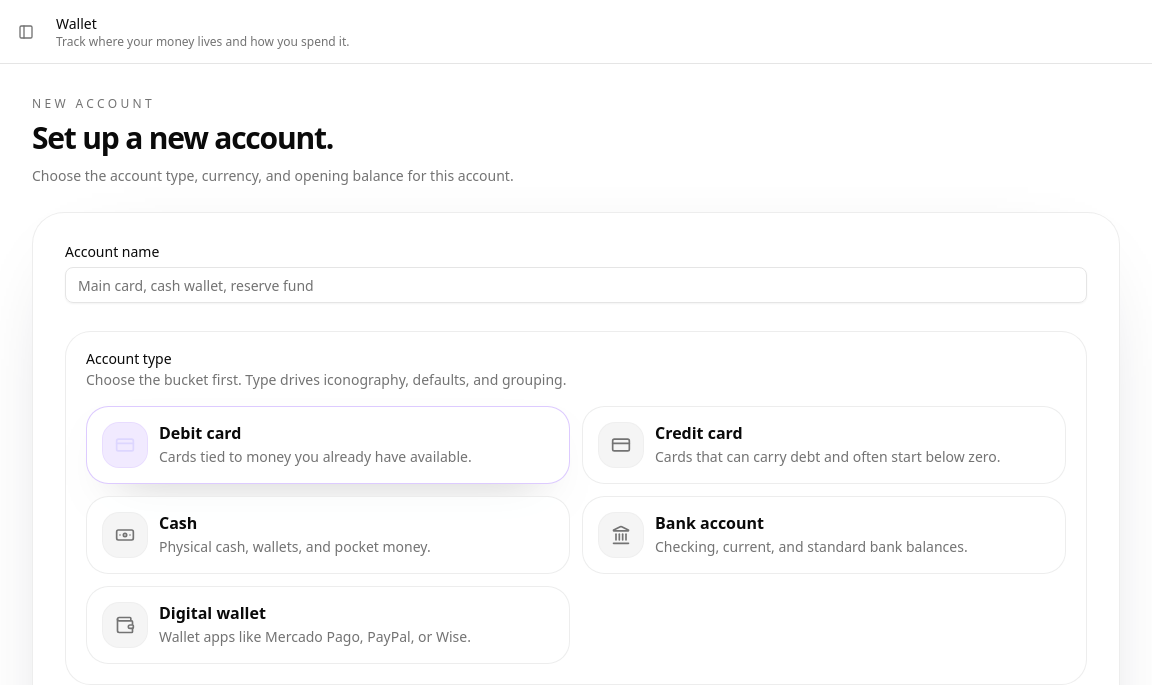
Test: wallet frontend routes › creates an account from the dedicated route and lands on the detail route
The image size is (1152, 685).
Expected: the heading "Set up a new account." is shown, [32, 117, 333, 158]
In the field with placeholder "Main card, cash wallet, reserve fund": (576, 285) [65, 267, 1087, 303], type "Travel Fund"
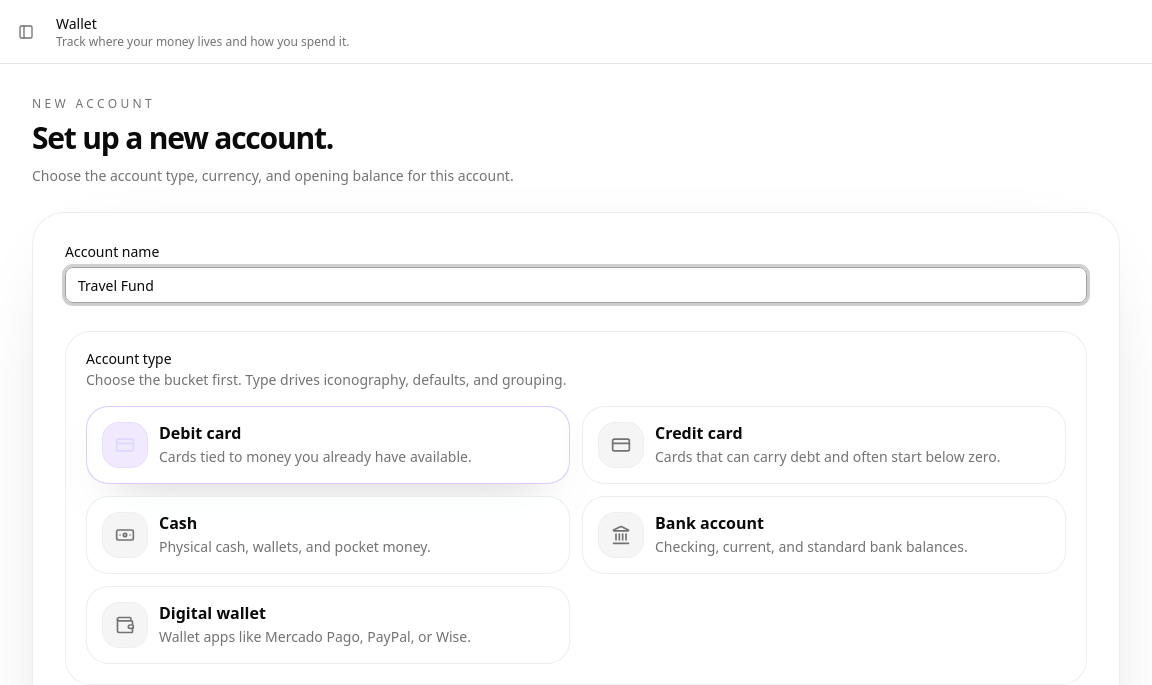
Click the radio button labelled "Bank account Checking, current, and standard bank balances.": (824, 535) [582, 496, 1066, 574]
(page scrolled)
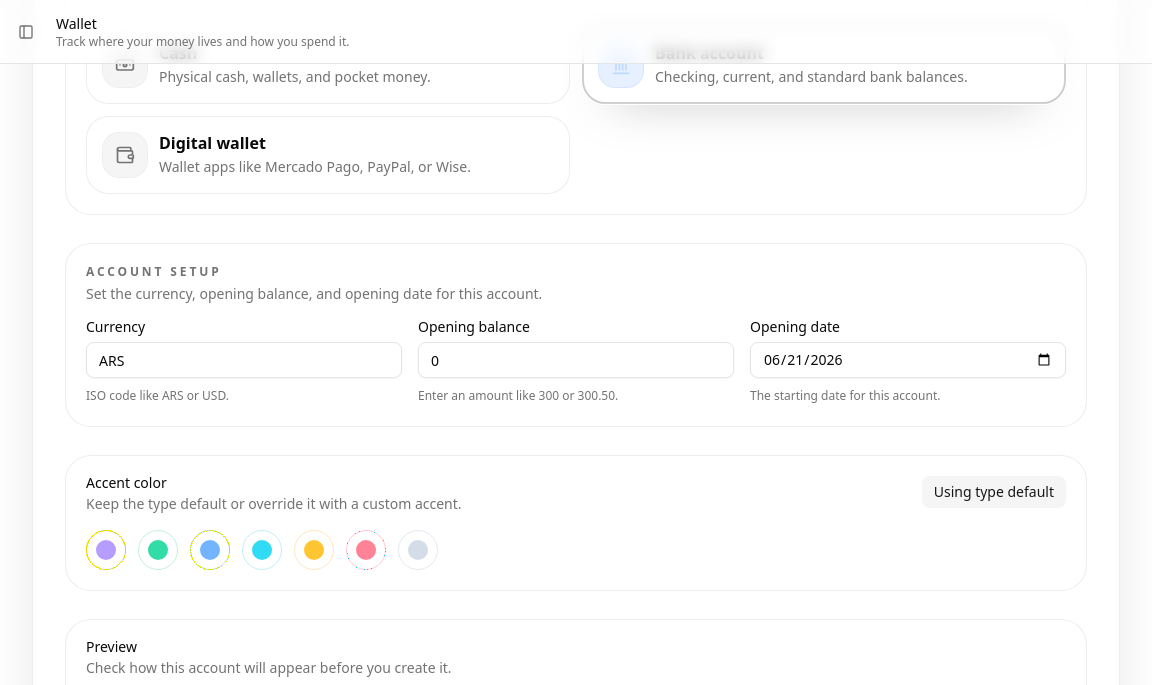
Replace the text in the field labelled "Currency" with "USD": (244, 360) [86, 342, 402, 378]
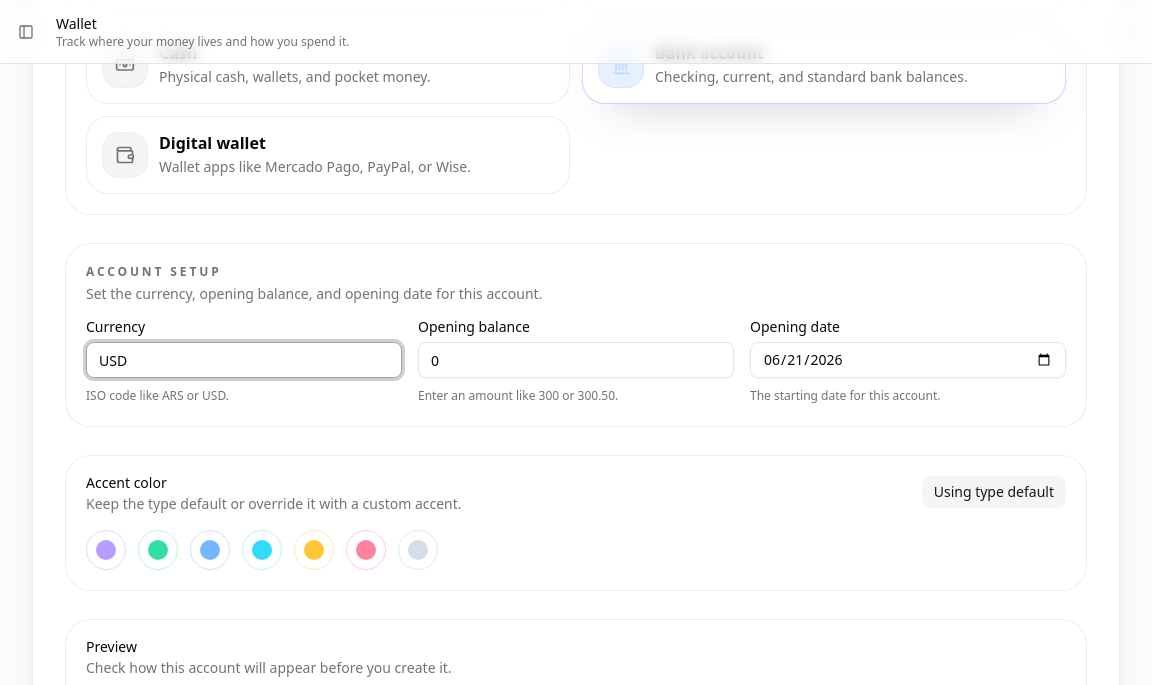
Replace the text in the field labelled "Opening balance" with "150": (576, 360) [418, 342, 734, 378]
(page scrolled)
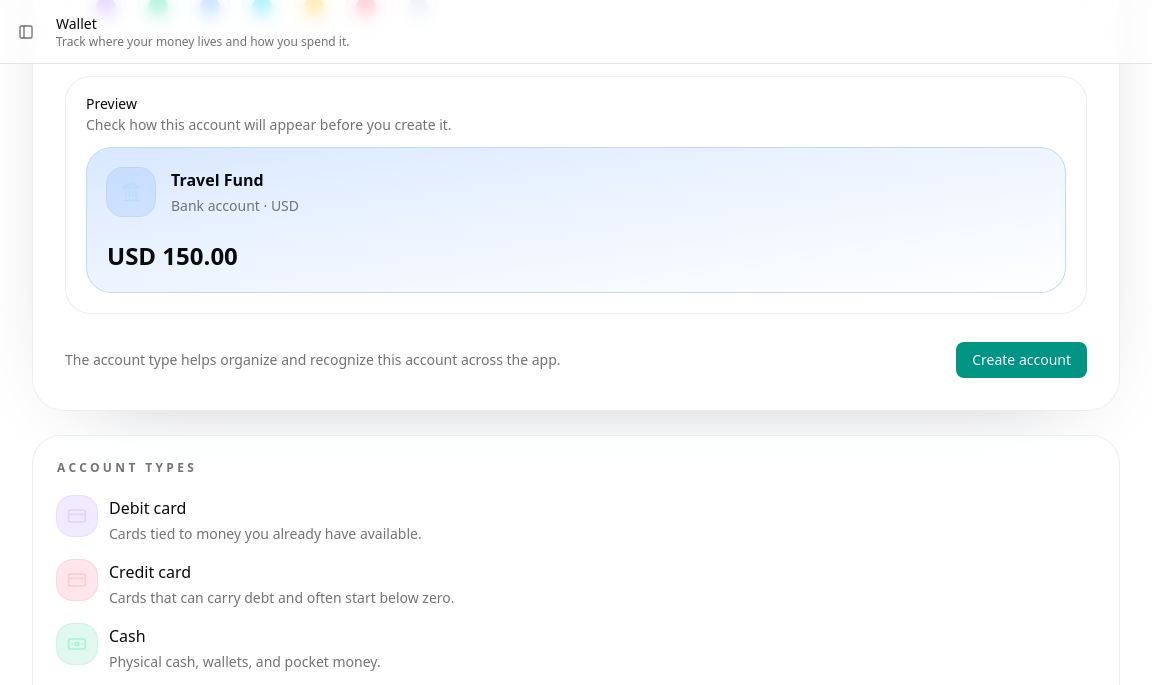
Expected: the text "USD 150.00" is shown, [107, 239, 238, 272]
Click the button "Create account": (1022, 360) [956, 342, 1087, 378]
(page scrolled)
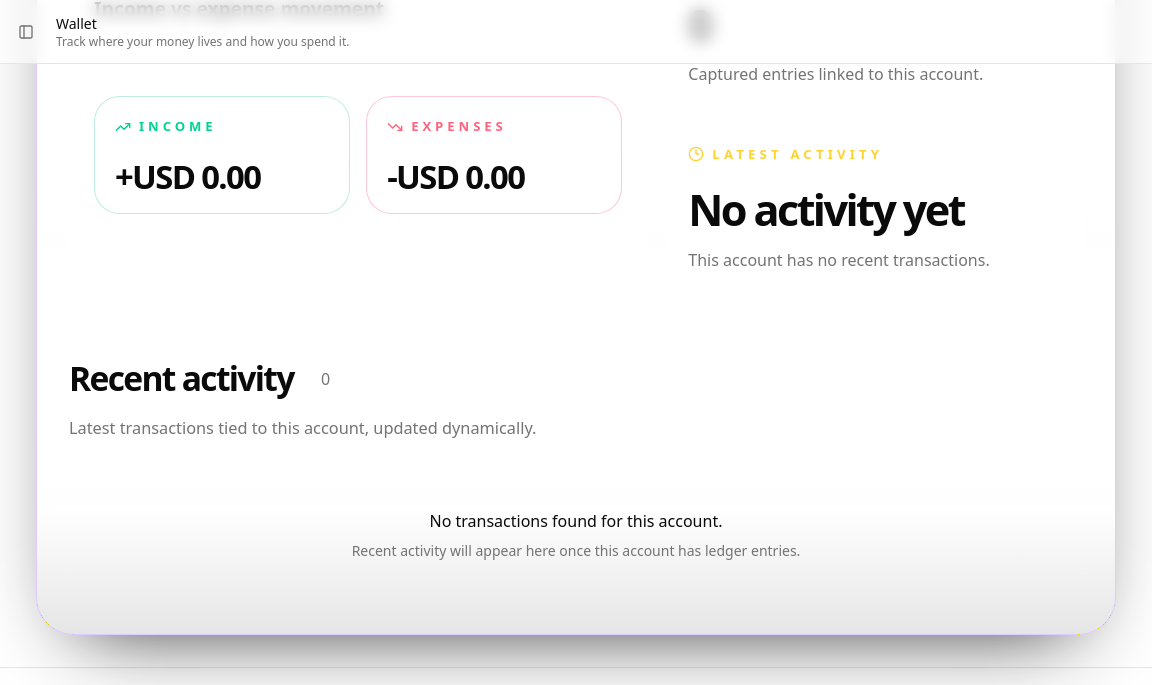
Expected: the heading "Recent activity" is shown, [69, 362, 294, 395]
